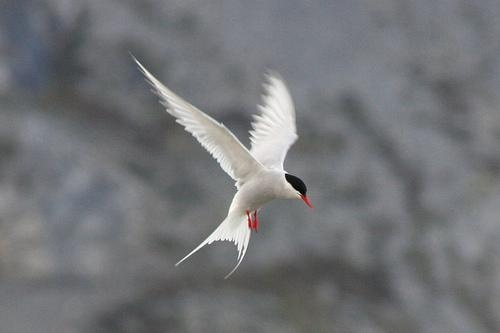bird: (127, 52, 314, 276)
